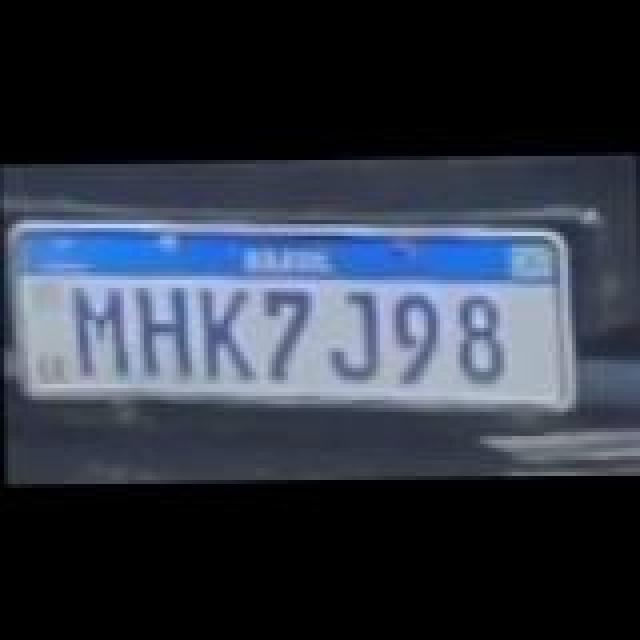7: (260, 288, 320, 384)
8: (454, 298, 510, 386)
9: (390, 292, 446, 384)
H: (132, 284, 200, 376)
J: (324, 290, 384, 382)
K: (200, 286, 260, 382)
M: (66, 286, 138, 378)
